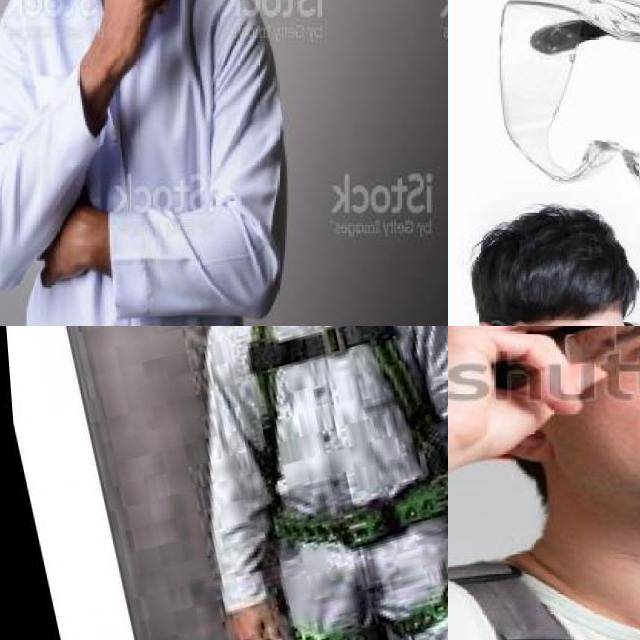Harness: (249, 326, 448, 546)
glasses: (494, 0, 640, 250)
hand_noglove: (448, 326, 614, 479), (98, 0, 178, 37)
head_nohelmet: (475, 207, 640, 326)
person: (0, 0, 293, 326), (448, 208, 640, 326)
